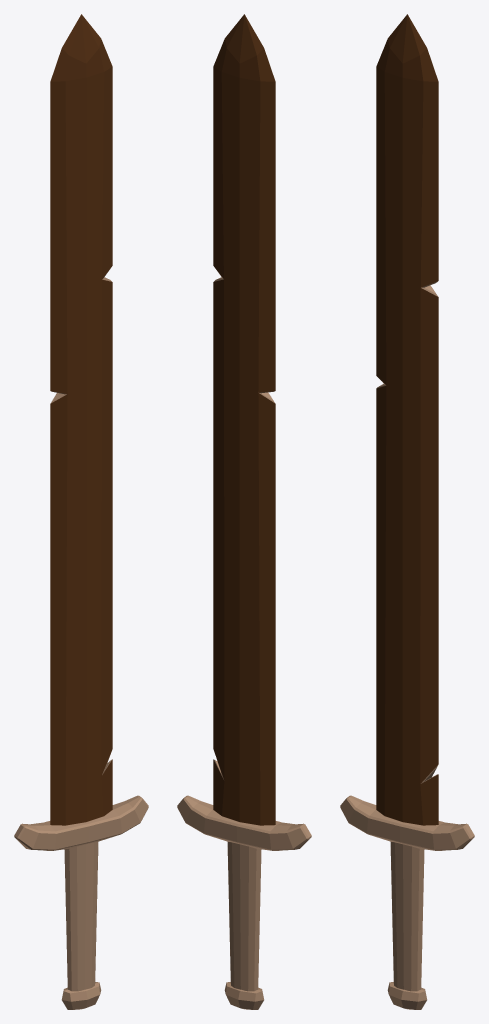
Rendered from wooden-sword.glb.
3 views of the same model, side by side, from view 1: azimuth 30°, elevation 25°; view 2: azimuth 150°, elevation 25°; view 3: azimuth 330°, elevation 25° (orthographic).
Parts seen in each view (by area): view 1: Sword; view 2: Sword; view 3: Sword.
Part boxes in pixels (box(x1,y1,x2,y2)): Sword: box(14, 14, 148, 1009); Sword: box(177, 14, 311, 1009); Sword: box(340, 14, 474, 1009).
Size of the model in its own units: 0.2163 by 1.56 by 0.0433.
